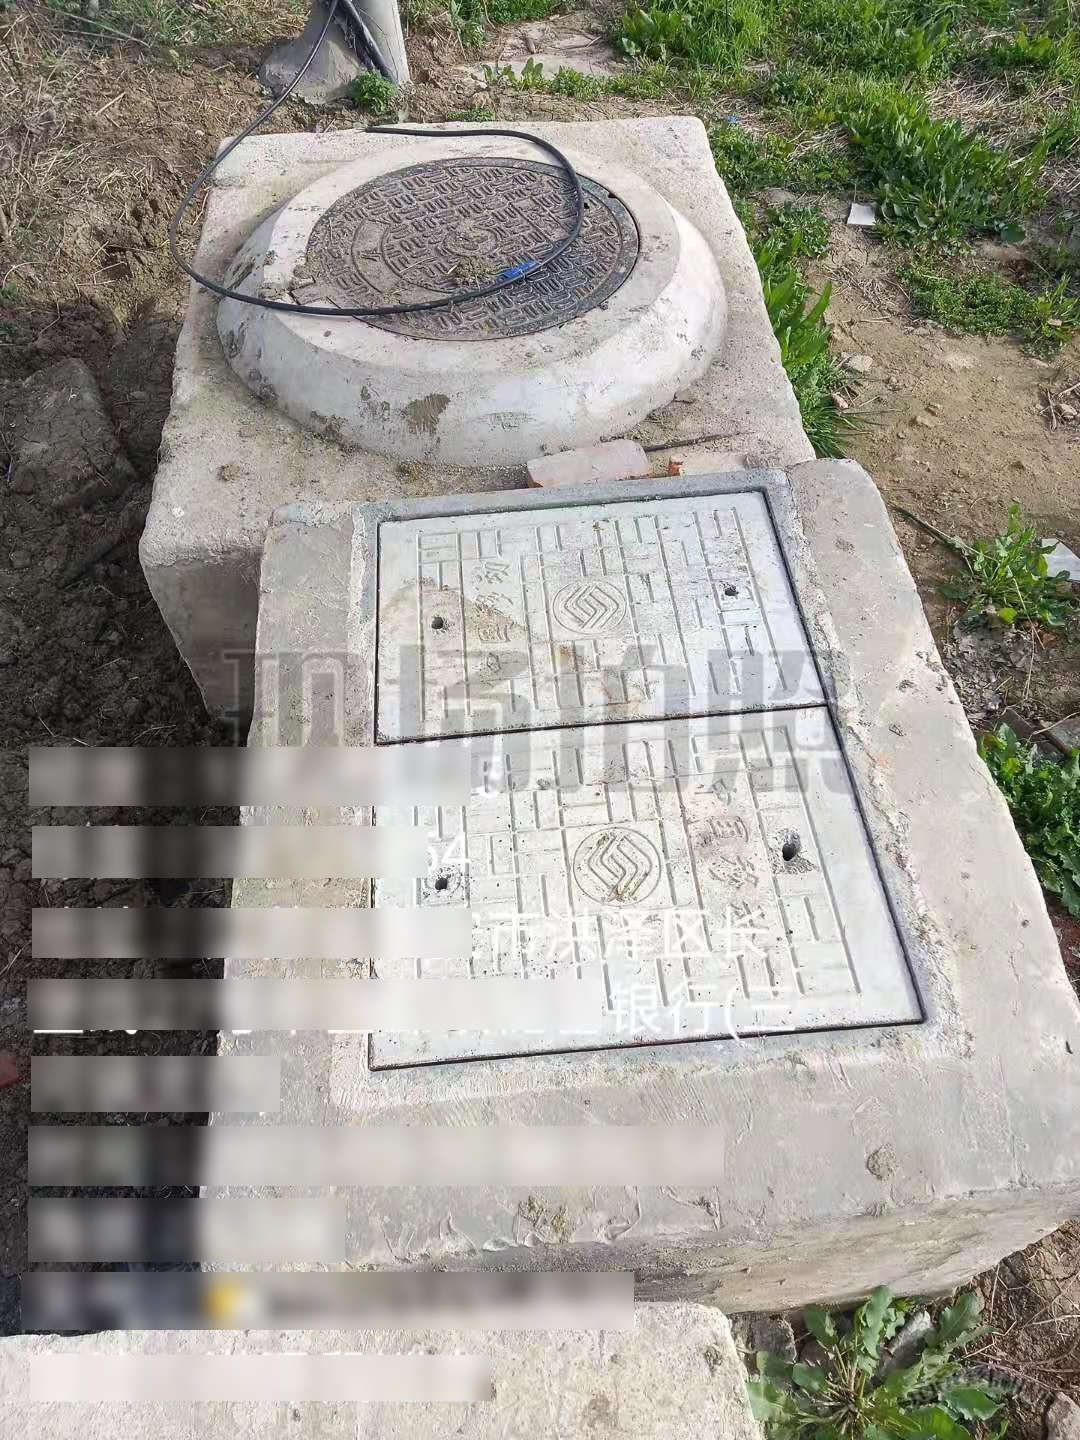good: (351, 469, 962, 1089), (285, 156, 640, 344)
